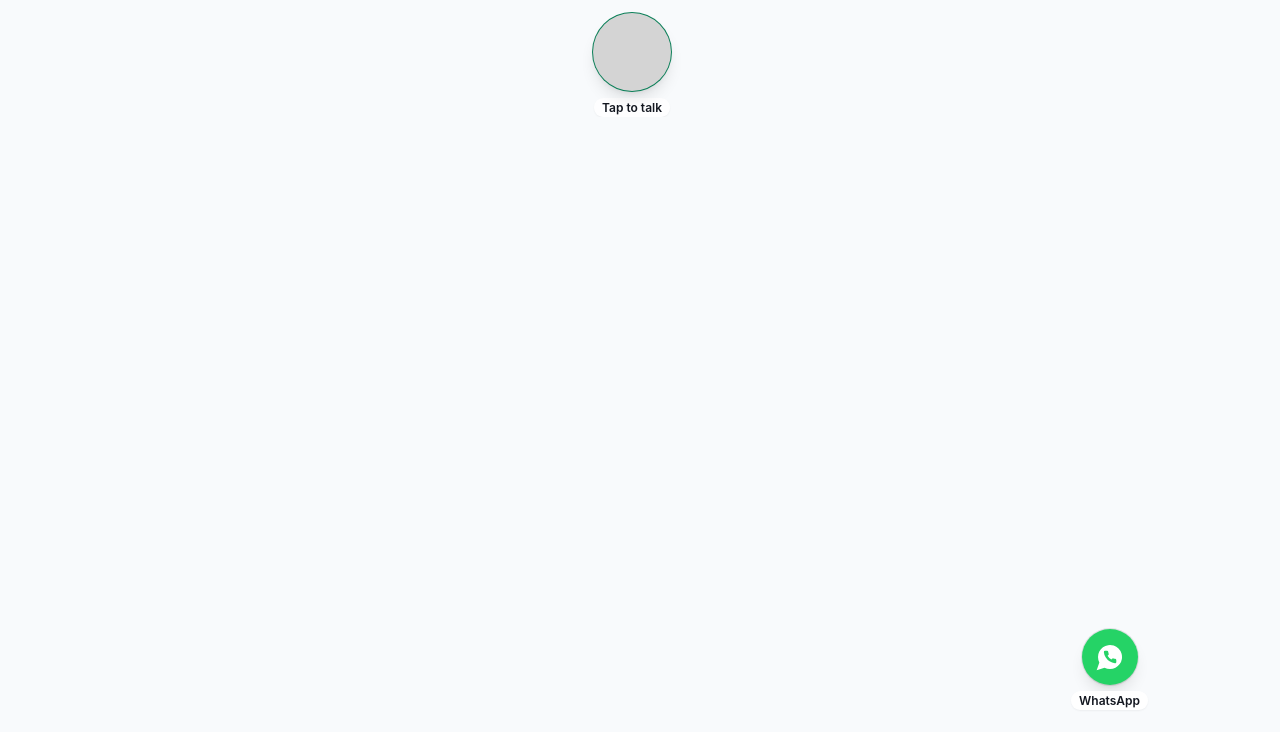
Test: homepage assistant recovery › collapses to the bubble on Minimize with the call preserved, and reopening restores the same call
Click the button with aria-label "Talk to Aspen" at [632, 64], box 592,12 -> 672,117
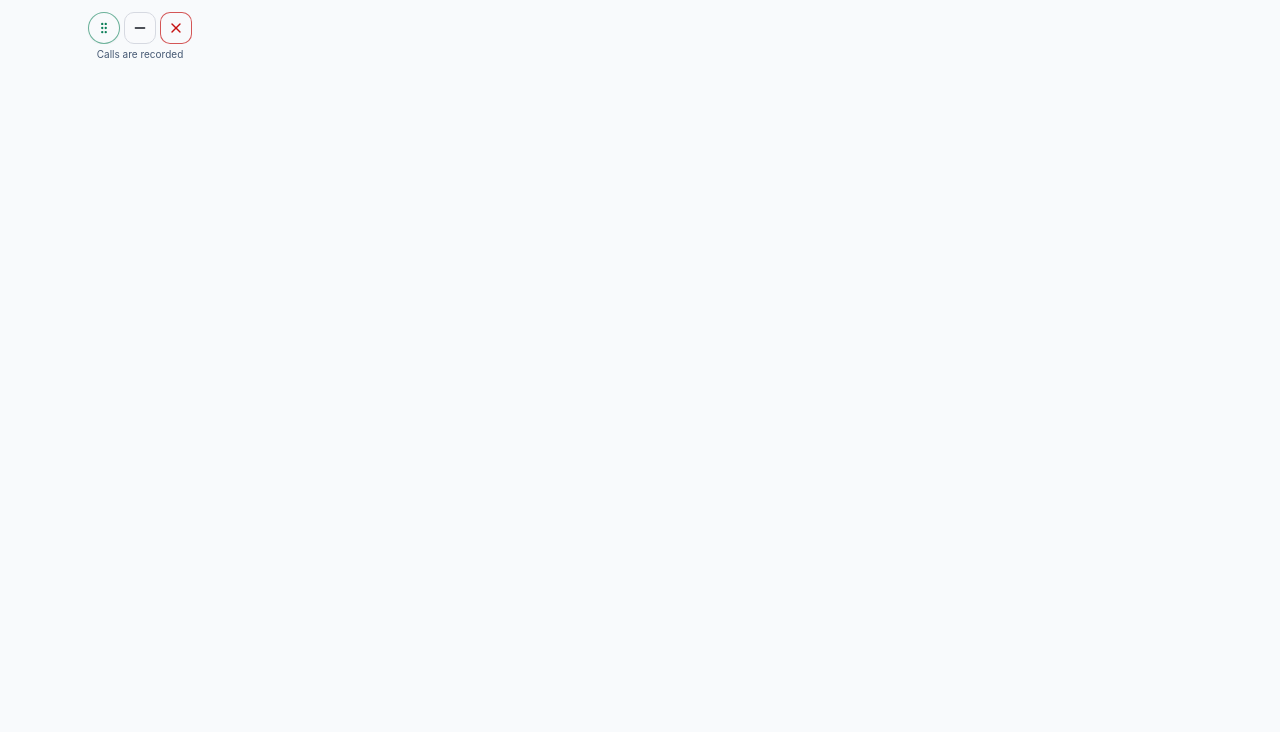
Click the button named "Minimize" at [140, 28], box 124,12 -> 156,44
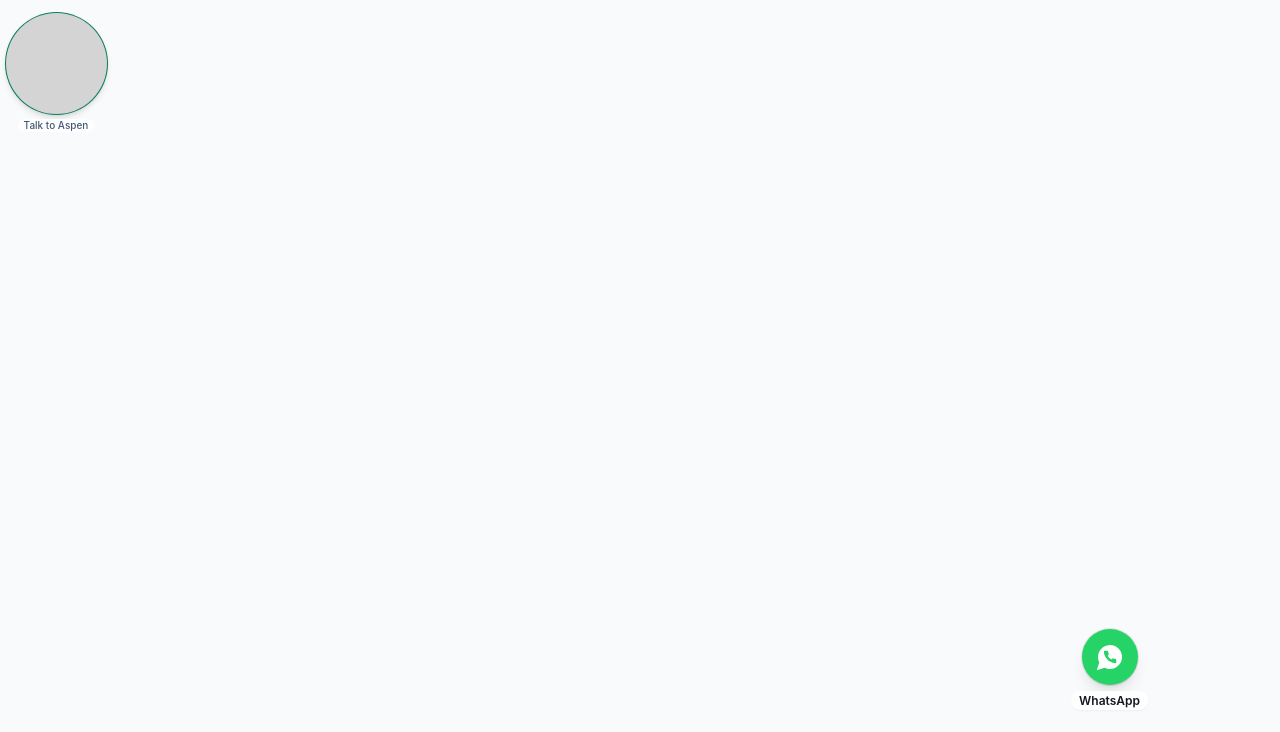
expect the button "Minimize" is gone: met
Click the button "Talk to Aspen" at [56, 72], box 4,12 -> 108,132
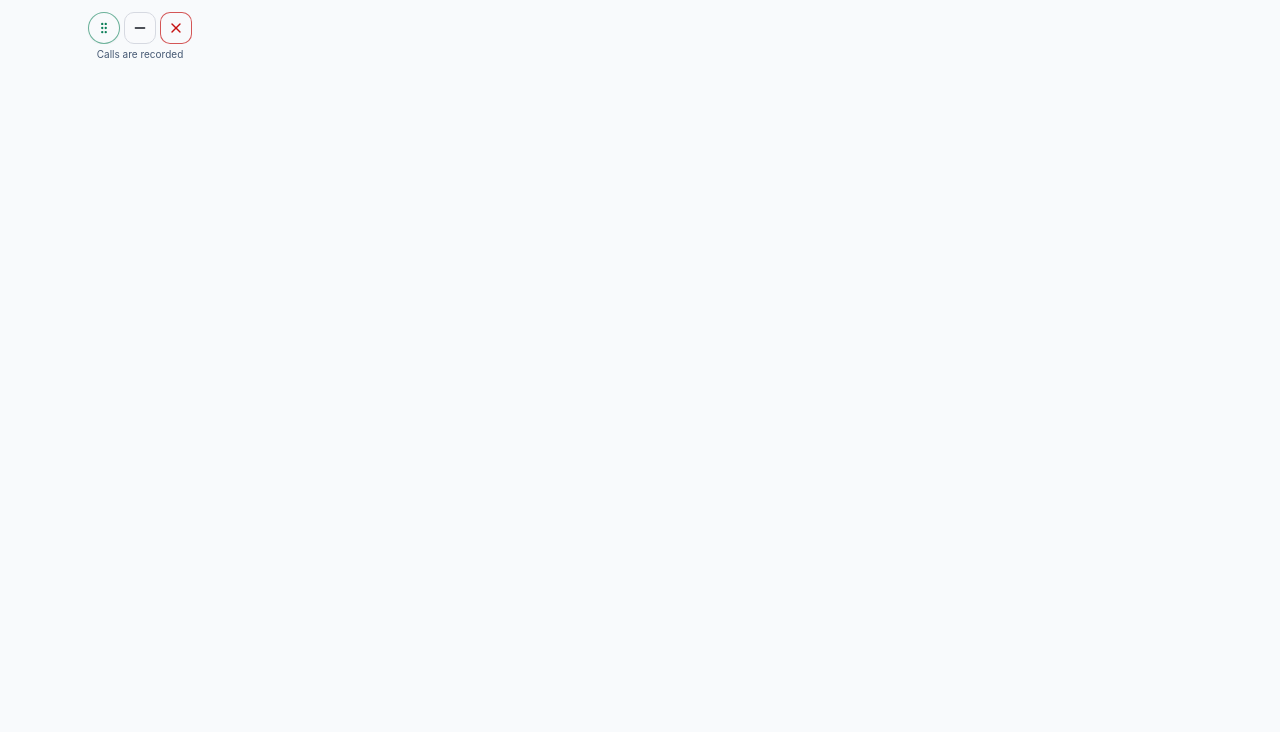
expect the button named "Minimize" is shown: met, box 124,12 -> 156,44
